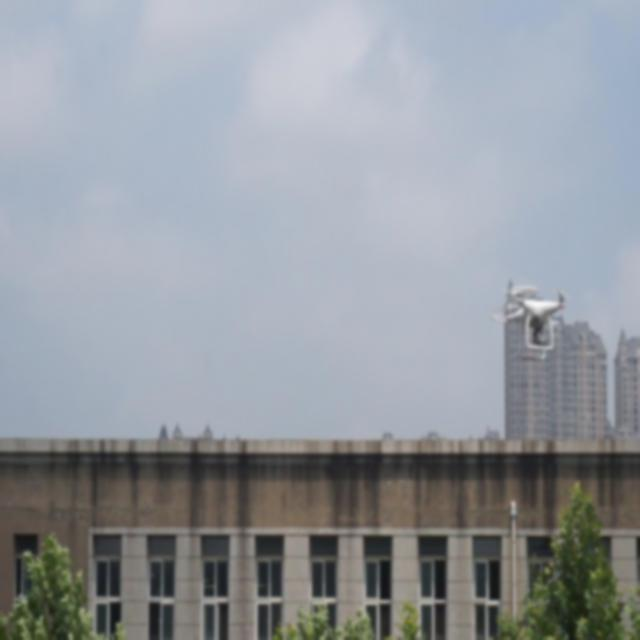UAV: (491, 287, 569, 361)
